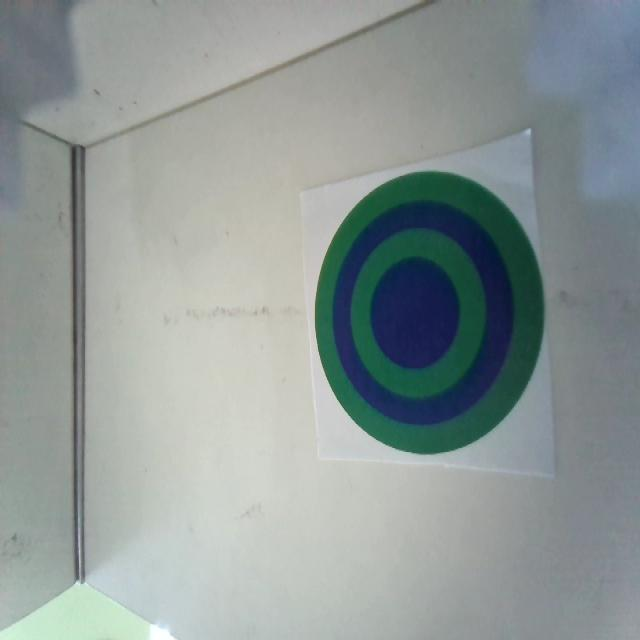cogn: (312, 168, 542, 455)
